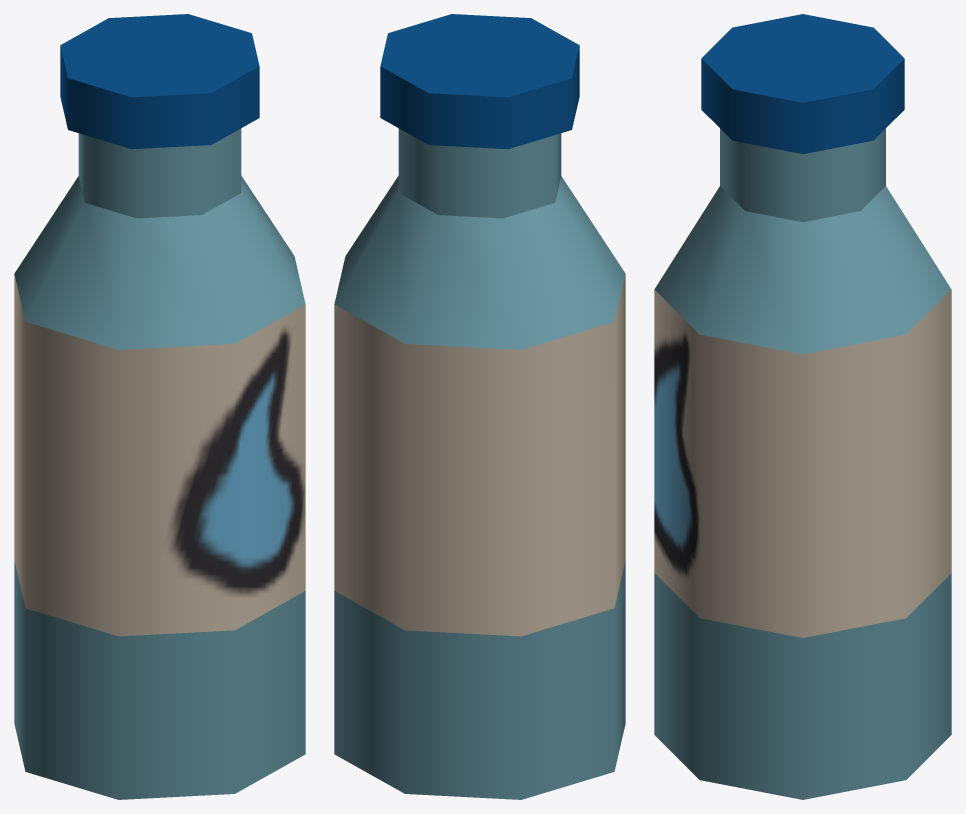
File: SM_Water.fbx
The picture shows the model from 3 angles, left to right: view 1: azimuth 30°, elevation 25°; view 2: azimuth 150°, elevation 25°; view 3: azimuth 270°, elevation 25°; orthographic projection.
Visible parts, largest first — view 1: SM_Water, waterTap; view 2: SM_Water, waterTap; view 3: SM_Water, waterTap.
Part boxes in pixels (bbox=[...]): SM_Water: bbox=[14, 128, 305, 799]; waterTap: bbox=[60, 14, 259, 149]; SM_Water: bbox=[334, 128, 625, 799]; waterTap: bbox=[380, 14, 579, 149]; SM_Water: bbox=[654, 128, 951, 799]; waterTap: bbox=[701, 14, 904, 153].
Size of the model in its own units: 10.31 by 25.01 by 9.95.
